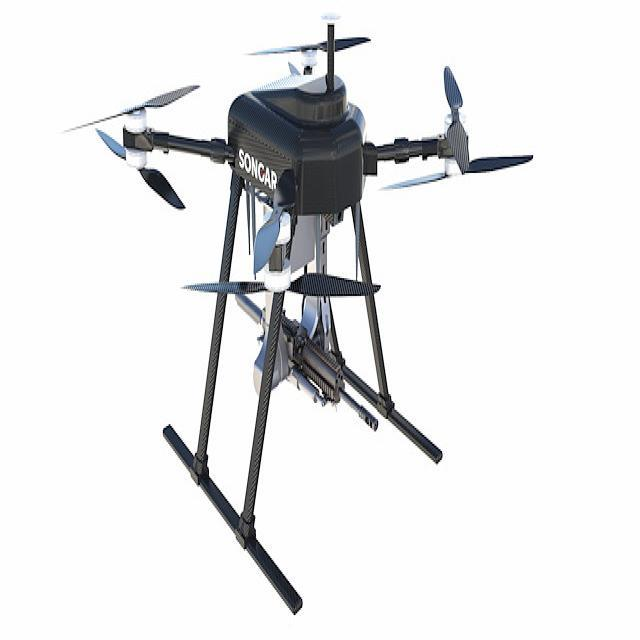drone: (81, 44, 548, 316)
